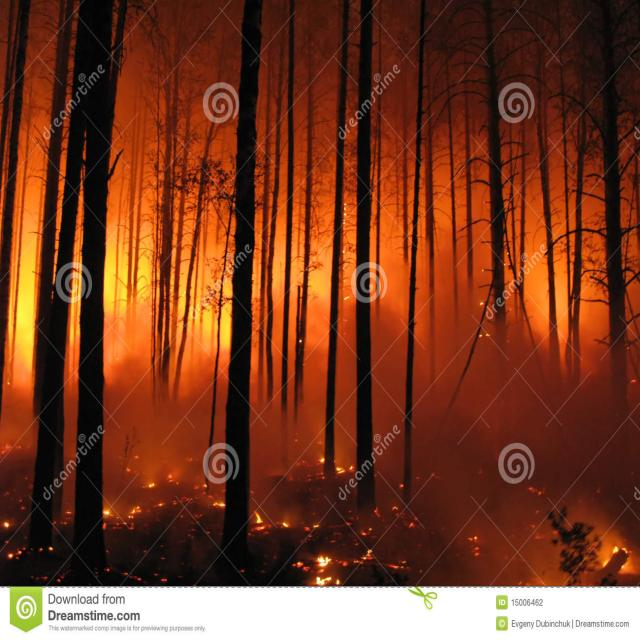Fire: (14, 92, 640, 421)
